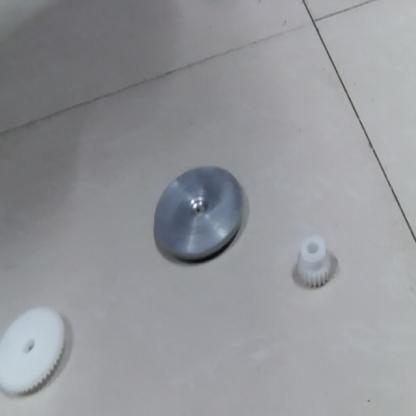FOD: (151, 159, 250, 269), (0, 299, 67, 401), (290, 237, 337, 293)
